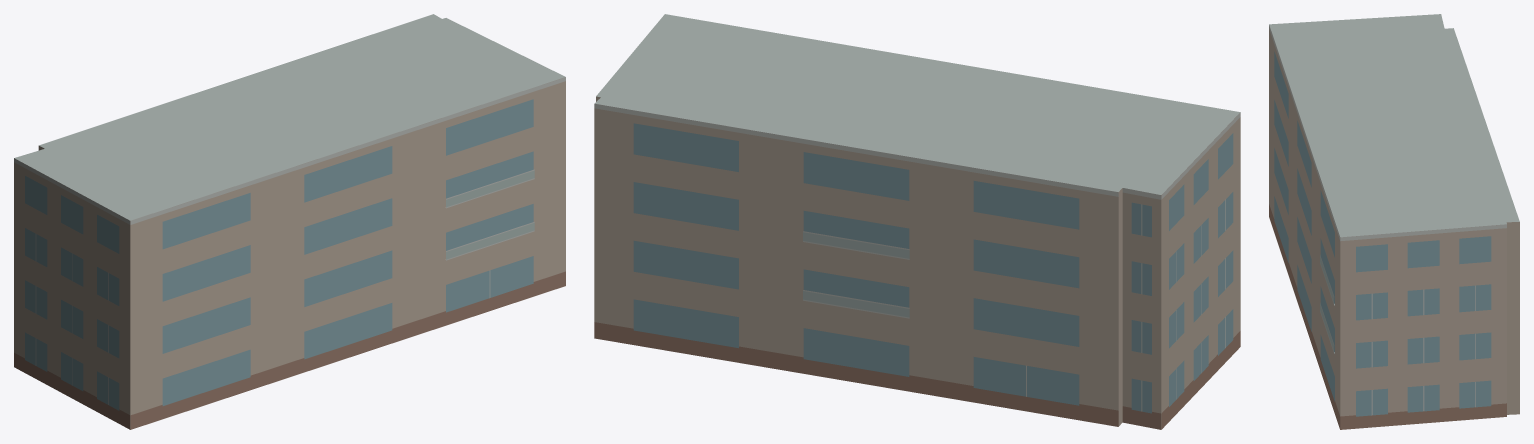
File: survey-upis-32576772.glb
3 views of the same model, side by side, from view 1: azimuth 30°, elevation 25°; view 2: azimuth 150°, elevation 25°; view 3: azimuth 270°, elevation 25° (orthographic). The views are drawn at different scales.
Parts seen in each view (by area): view 1: survey-upis-32576772.tmp; view 2: survey-upis-32576772.tmp; view 3: survey-upis-32576772.tmp.
Boxes of the visible parts, <box> form: survey-upis-32576772.tmp: <box>14,14,565,429</box>; survey-upis-32576772.tmp: <box>594,14,1240,429</box>; survey-upis-32576772.tmp: <box>1269,14,1519,429</box>.
Size of the model in its own units: 30.36 by 12.2 by 14.41.
